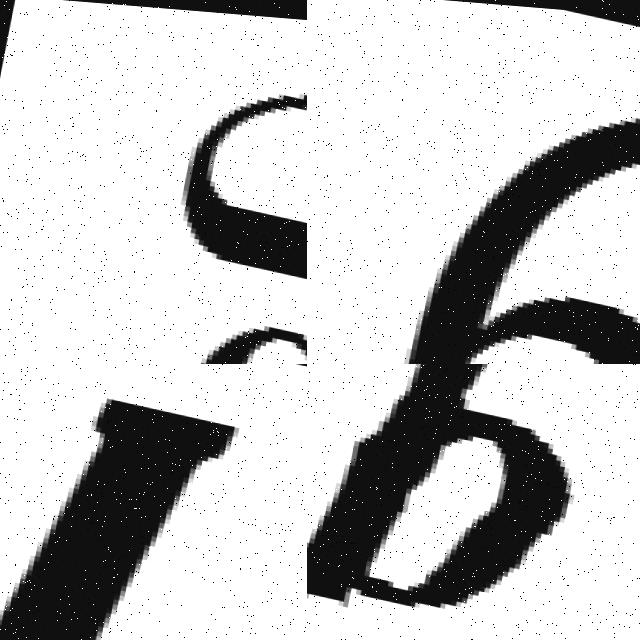9: (371, 55, 640, 364)
F: (0, 364, 252, 640)
G: (100, 56, 307, 364)
Q: (307, 364, 640, 640)
